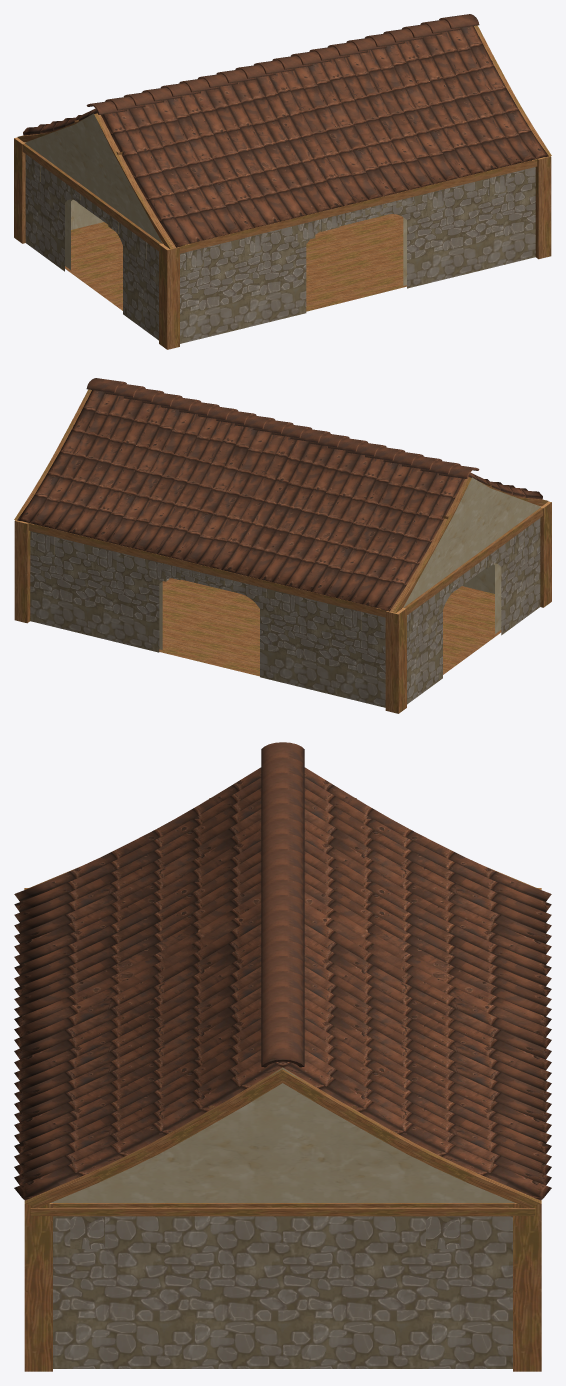
File: Building7Animation_Modular.glb
The picture shows the model from 3 angles, top to bottom: view 1: azimuth 30°, elevation 25°; view 2: azimuth 150°, elevation 25°; view 3: azimuth 270°, elevation 25°; orthographic projection. The views are drawn at different scales.
Parts seen in each view (by area): view 1: BA_Roof_02, BA_Wall_02, BA_Floor_01, BA_Trim_01, BA_Roof_01, BA_Roof_03, BA_Wall_01; view 2: BA_Roof_02, BA_Wall_02, BA_Floor_01, BA_Trim_01, BA_Roof_01, BA_Roof_03, BA_Wall_01; view 3: BA_Roof_02, BA_Wall_02, BA_Roof_01, BA_Roof_03, BA_Trim_01.
Part boxes in pixels (bbox=[...]): BA_Roof_02: bbox=[23, 14, 548, 247]; BA_Wall_02: bbox=[25, 154, 535, 343]; BA_Floor_01: bbox=[65, 214, 406, 311]; BA_Trim_01: bbox=[14, 137, 551, 349]; BA_Roof_01: bbox=[24, 113, 162, 243]; BA_Roof_03: bbox=[17, 25, 551, 248]; BA_Wall_01: bbox=[65, 199, 406, 285]; BA_Roof_02: bbox=[17, 378, 542, 611]; BA_Wall_02: bbox=[30, 518, 540, 707]; BA_Floor_01: bbox=[159, 578, 501, 676]; BA_Trim_01: bbox=[14, 501, 551, 713]; BA_Roof_01: bbox=[89, 390, 541, 607]; BA_Roof_03: bbox=[14, 389, 548, 612]; BA_Wall_01: bbox=[159, 563, 501, 649]; BA_Roof_02: bbox=[14, 742, 551, 1200]; BA_Wall_02: bbox=[53, 1216, 512, 1368]; BA_Roof_01: bbox=[51, 1068, 514, 1202]; BA_Roof_03: bbox=[24, 798, 541, 1215]; BA_Trim_01: bbox=[24, 888, 541, 1371].
Bounding box in the file's own units: 12.65 × 5.92 × 9.08.
7 materials, 7 textured.
